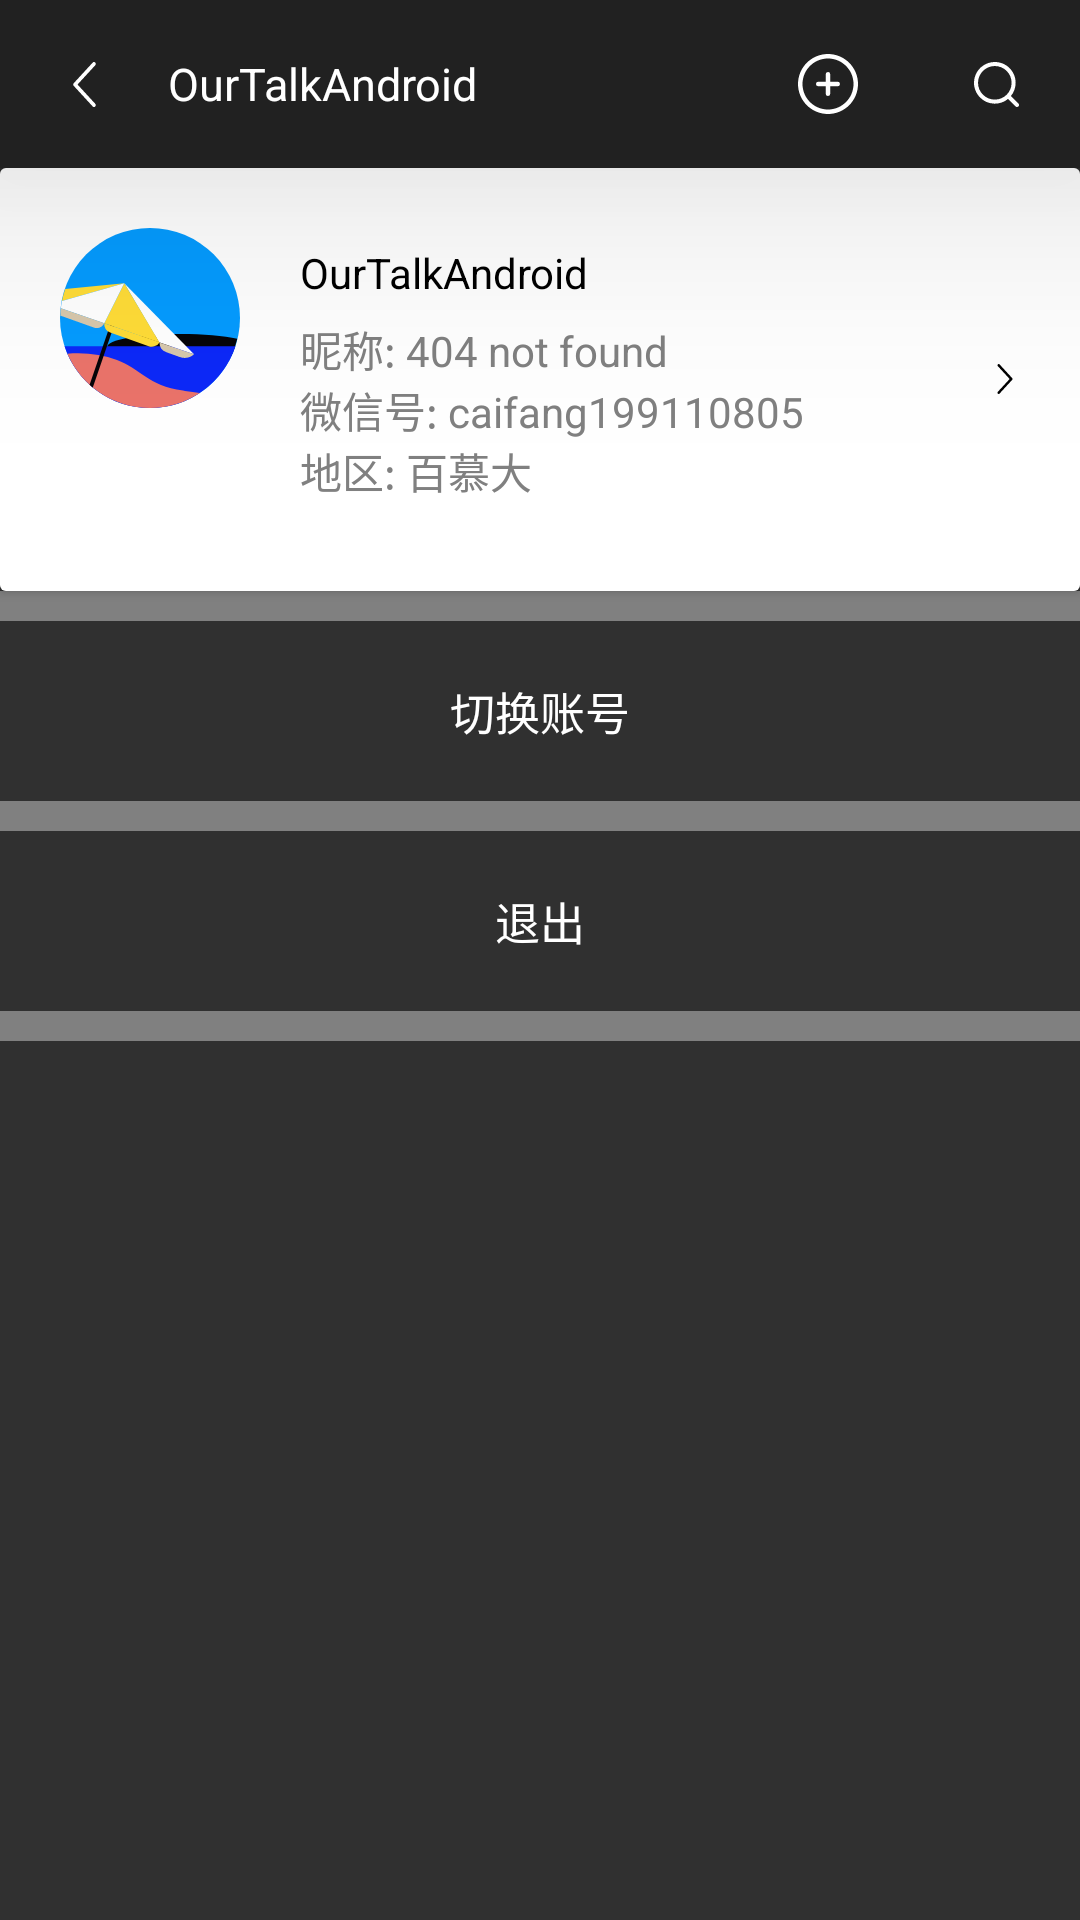

Where to tap for icons on this 1080x1920 app screen, as (x,y):
add: (828,84)
back: (84,84)
head: (150,318)
into: (1005,379)
query: (996,84)
